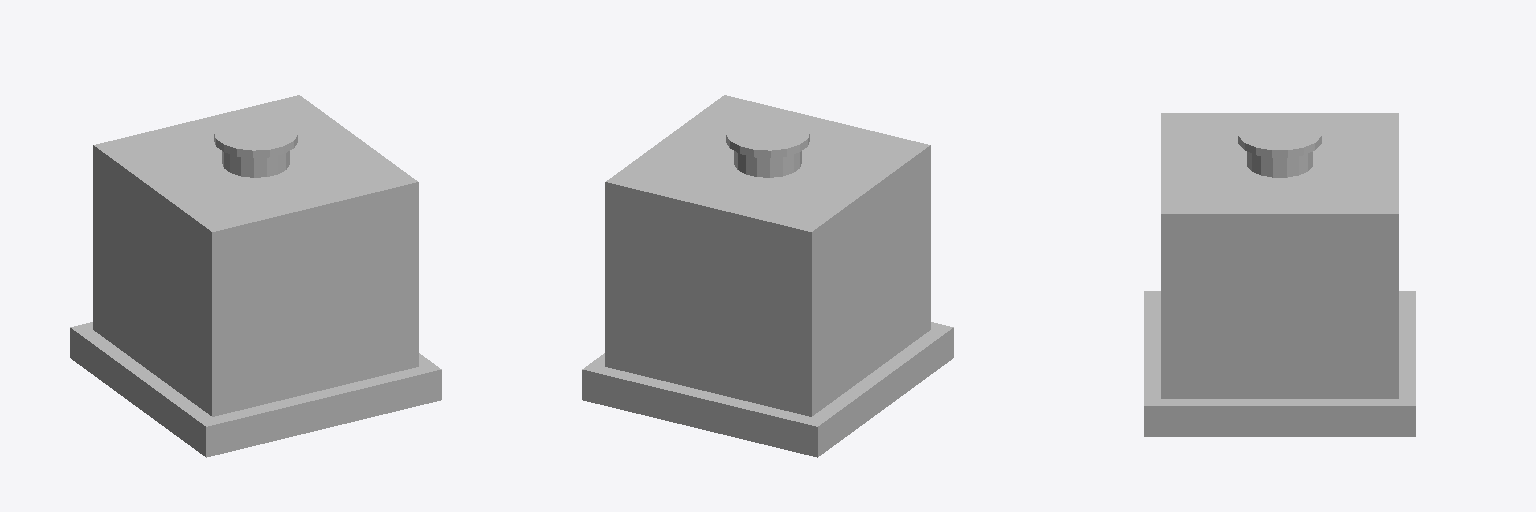
File: pipeworks_pump.obj
The picture shows the model from 3 angles: view 1: azimuth 30°, elevation 25°; view 2: azimuth 150°, elevation 25°; view 3: azimuth 270°, elevation 25°; orthographic projection.
Visible parts, largest first — view 1: Cube; view 2: Cube; view 3: Cube.
Part boxes in pixels (x1,y1,x2,y2): Cube: (70, 95, 441, 457); Cube: (582, 95, 953, 457); Cube: (1144, 113, 1415, 436).
Size of the model in its own units: 1 by 1 by 1.